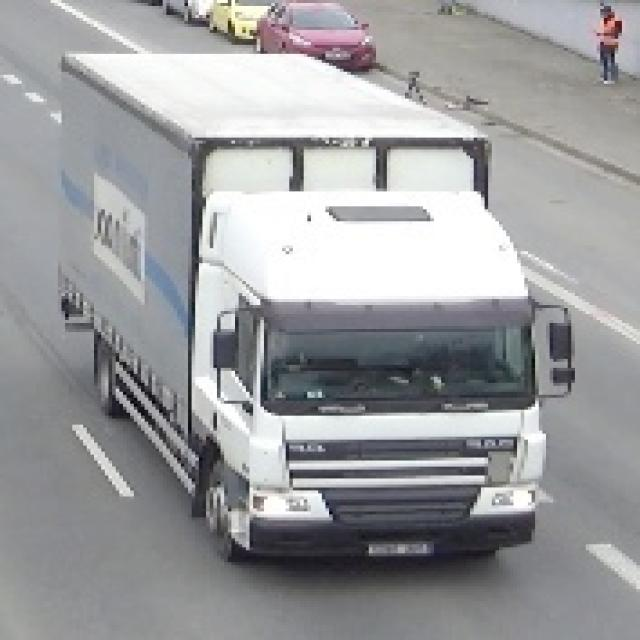truck: (52, 40, 576, 569)
